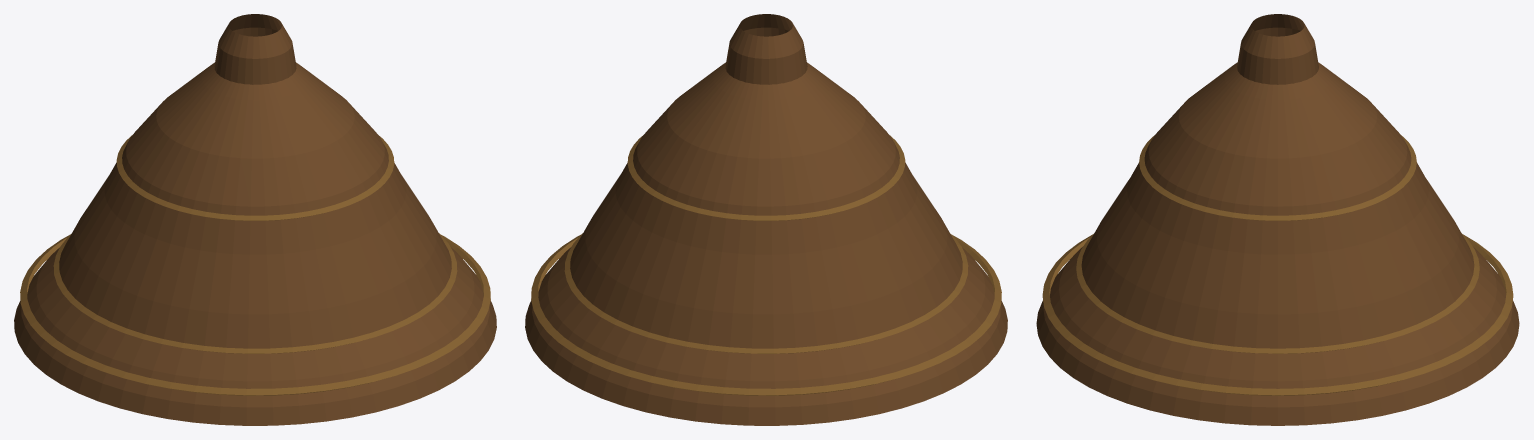
File: foundry-bell.obj
3 renders of one model, left to right at view 1: azimuth 30°, elevation 25°; view 2: azimuth 150°, elevation 25°; view 3: azimuth 270°, elevation 25°, orthographic.
Visible parts, largest first — view 1: Cast_bell_shell, Relief_ring_0.86, Crown, Relief_ring_1.21, Relief_ring_2.57; view 2: Cast_bell_shell, Relief_ring_0.86, Crown, Relief_ring_1.21, Relief_ring_2.57; view 3: Cast_bell_shell, Relief_ring_0.86, Crown, Relief_ring_1.21, Relief_ring_2.57.
Boxes of the visible parts, x1,y1,x2,y2 form: Cast_bell_shell: (14,62,496,425); Relief_ring_0.86: (20,234,490,395); Crown: (214,14,296,84); Relief_ring_1.21: (53,233,457,353); Relief_ring_2.57: (116,135,394,220); Cast_bell_shell: (525,62,1007,425); Relief_ring_0.86: (531,234,1001,395); Crown: (725,14,807,84); Relief_ring_1.21: (564,233,968,353); Relief_ring_2.57: (627,135,905,220); Cast_bell_shell: (1036,62,1519,425); Relief_ring_0.86: (1042,234,1513,395); Crown: (1237,14,1318,84); Relief_ring_1.21: (1076,234,1479,353); Relief_ring_2.57: (1139,135,1416,220).
Bounding box in the file's own units: 5.6 × 4.12 × 5.6.
